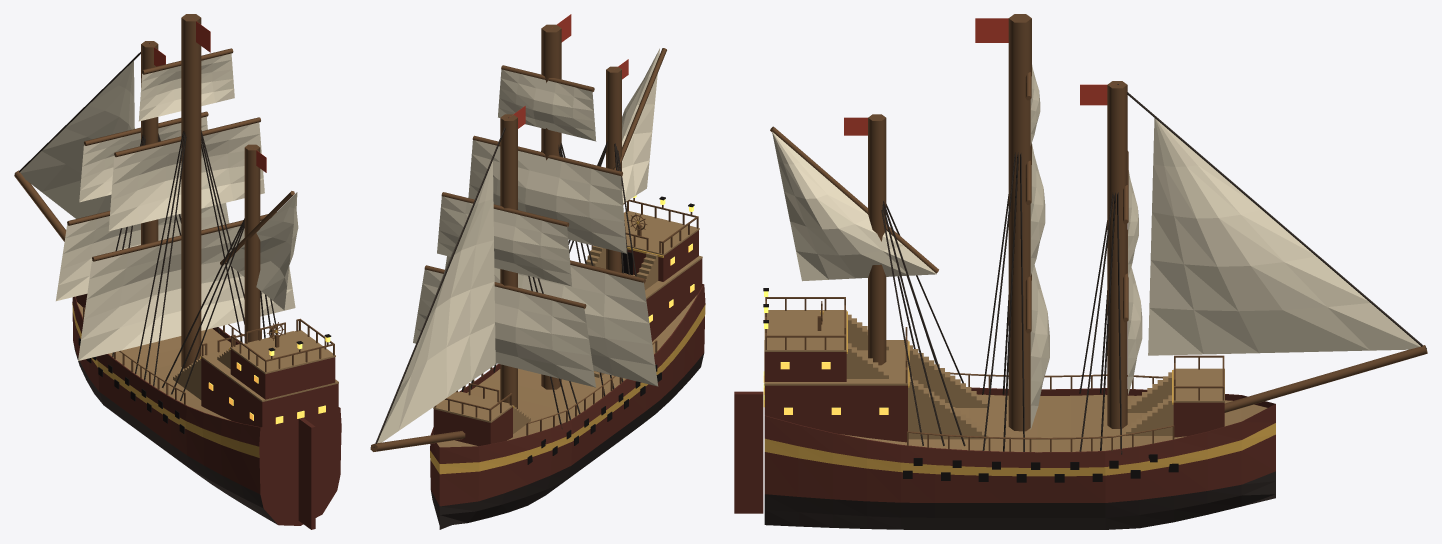
The model's file is sawyer_ship_galleon_set.glb.
3 renders of one model, left to right at view 1: azimuth 30°, elevation 25°; view 2: azimuth 150°, elevation 25°; view 3: azimuth 270°, elevation 25°, orthographic. The views are drawn at different scales.
Parts seen in each view (by area): view 1: hull, sail_sq1_0, sail_sq1_1, cabin_walls (×2), mast1, sail_jib0, sail_sq0_0, sail_sq1_2, sail_lateen2, mast2, cabin_roof (×2), sail_sq0_1 (+14 smaller); view 2: hull, sail_jib0, sail_sq1_1, sail_sq0_0, sail_sq1_0, sail_sq0_1, cabin_walls (×3), sail_sq1_2, cabin_roof (×3), sail_lateen2, mast0, mast1 (+9 smaller); view 3: hull, sail_jib0, cabin_walls (×3), sail_lateen2, mast1, cabin_roof (×3), mast0, mast2, rudder, sail_sq1_0, bowsprit, sail_sq1_1 (+4 smaller).
Boxes of the visible parts, left/top/right/bottom form: hull: left=72, top=296, right=341, bottom=525; sail_sq1_0: left=78, top=219, right=295, bottom=360; sail_sq1_1: left=108, top=122, right=264, bottom=231; cabin_walls (×2): left=201, top=349, right=338, bottom=450; mast1: left=181, top=14, right=201, bottom=368; sail_jib0: left=20, top=61, right=134, bottom=218; sail_sq0_0: left=56, top=203, right=229, bottom=301; sail_sq1_2: left=138, top=53, right=234, bottom=121; sail_lateen2: left=228, top=192, right=298, bottom=310; mast2: left=244, top=144, right=260, bottom=343; cabin_roof (×2): left=200, top=330, right=338, bottom=401; sail_sq0_1: left=79, top=116, right=207, bottom=202; hull: left=430, top=284, right=705, bottom=529; sail_jib0: left=377, top=160, right=495, bottom=443; sail_sq1_1: left=468, top=140, right=626, bottom=253; sail_sq0_0: left=413, top=269, right=595, bottom=387; sail_sq1_0: left=445, top=256, right=658, bottom=386; sail_sq0_1: left=437, top=196, right=571, bottom=286; cabin_walls (×3): left=433, top=230, right=702, bottom=446; sail_sq1_2: left=498, top=69, right=596, bottom=141; cabin_roof (×3): left=433, top=211, right=702, bottom=422; sail_lateen2: left=622, top=48, right=659, bottom=203; mast0: left=500, top=114, right=517, bottom=408; mast1: left=541, top=24, right=561, bottom=389; hull: left=764, top=387, right=1275, bottom=529; sail_jib0: left=1148, top=118, right=1420, bottom=355; cabin_walls (×3): left=764, top=352, right=1224, bottom=442; sail_lateen2: left=772, top=131, right=936, bottom=281; mast1: left=1008, top=14, right=1031, bottom=431; cabin_roof (×3): left=764, top=310, right=1224, bottom=402; mast0: left=1107, top=81, right=1127, bottom=428; mast2: left=868, top=114, right=886, bottom=365; rudder: left=734, top=391, right=763, bottom=513; sail_sq1_0: left=1030, top=265, right=1049, bottom=429; bowsprit: left=1224, top=345, right=1427, bottom=412; sail_sq1_1: left=1030, top=144, right=1045, bottom=275.
Bounding box in the file's own units: 19.55 × 36.8 × 46.13.
